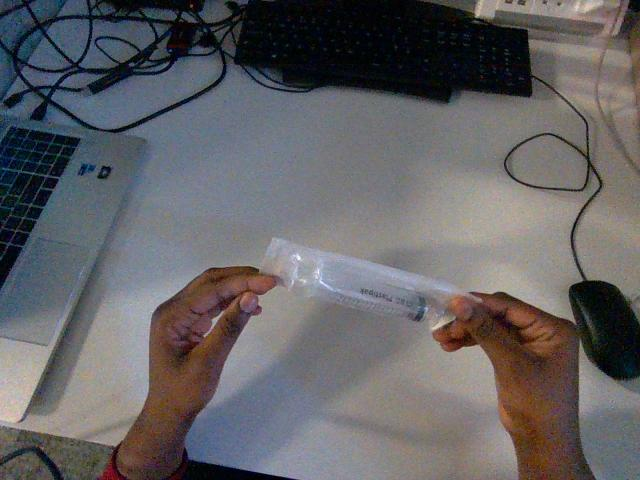syringe: (261, 238, 474, 330)
